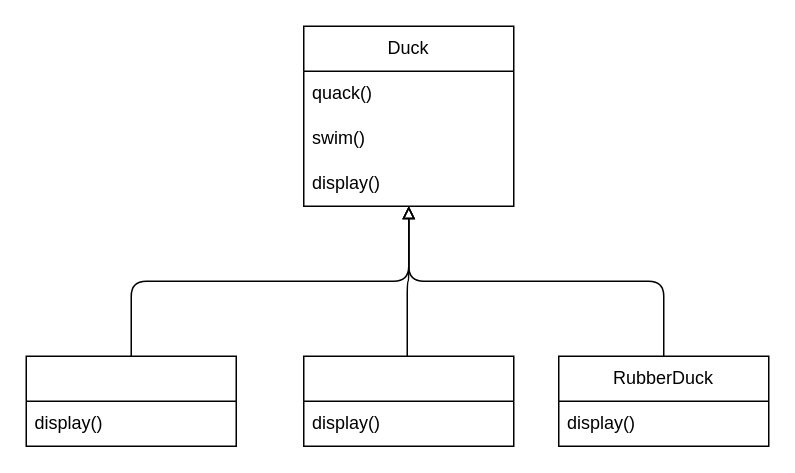
This 795x473 diagram has some shape labels left out. Each missing label, with the box of its shape:
MallardDuck: (25, 355, 236, 446)
RedheadDuck: (302, 355, 514, 446)
